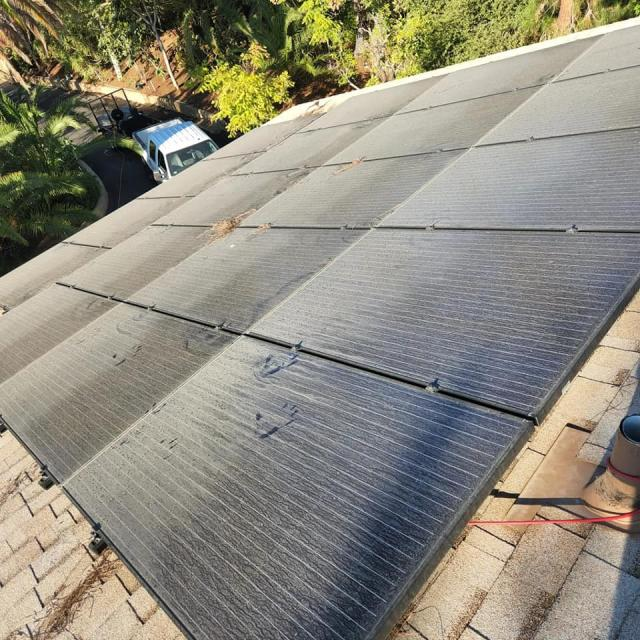dust-solar-panel: (0, 26, 640, 640)
